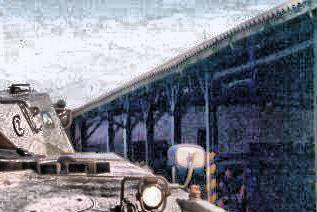tanks: (1, 88, 227, 212)
